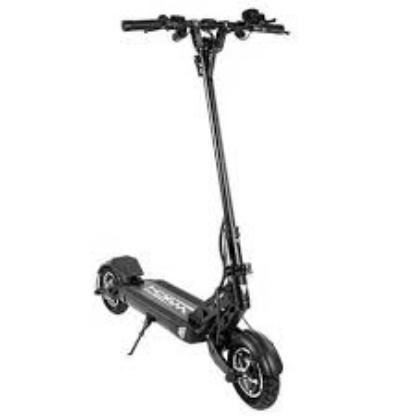bike: (91, 8, 291, 414), (94, 255, 284, 411)
